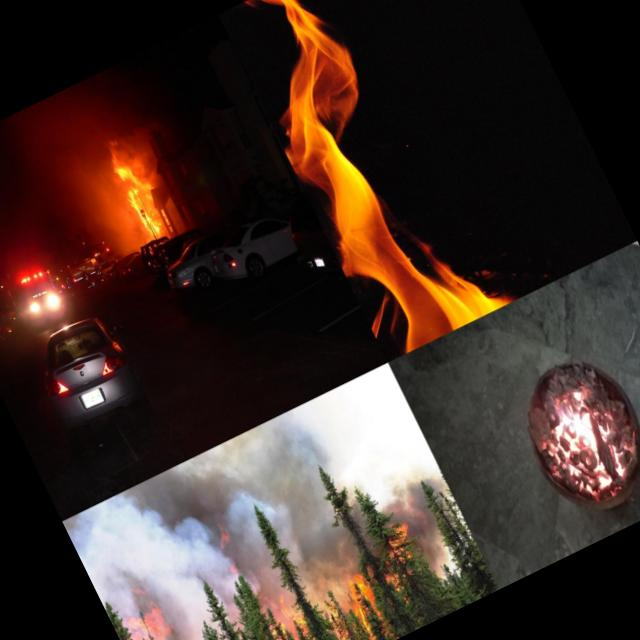fire: (217, 0, 610, 362), (519, 372, 640, 514), (96, 132, 167, 244), (312, 568, 396, 640), (112, 583, 181, 640), (255, 580, 314, 640), (378, 513, 422, 569)
smoke: (62, 402, 348, 606), (152, 530, 288, 635), (388, 464, 478, 572), (275, 496, 367, 595), (104, 104, 184, 204)
